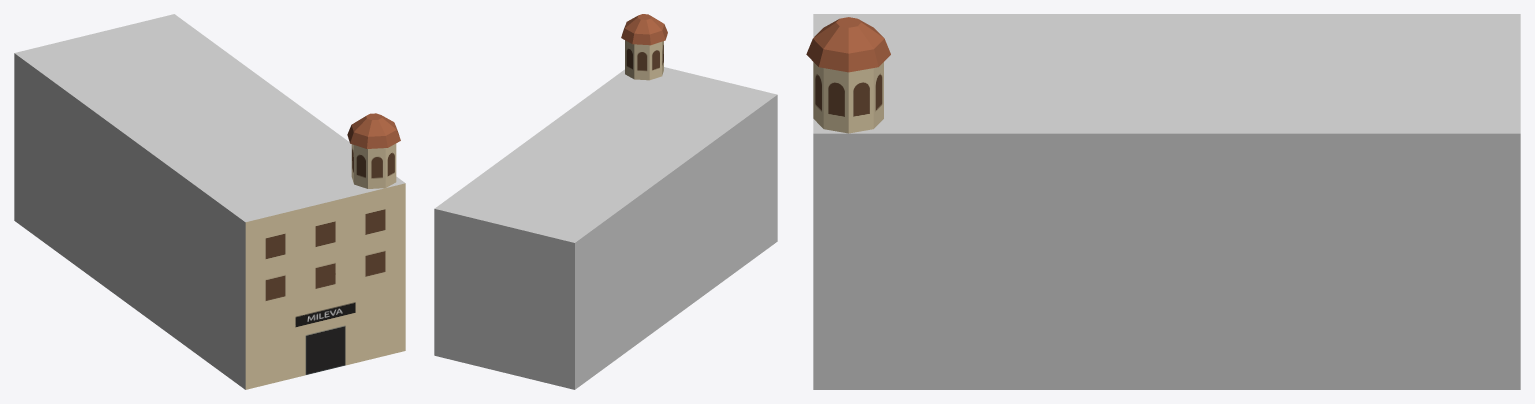
Rendered from alleys.glb.
The picture shows the model from 3 angles, left to right: view 1: azimuth 30°, elevation 25°; view 2: azimuth 150°, elevation 25°; view 3: azimuth 270°, elevation 25°; orthographic projection. The views are drawn at different scales.
Visible parts, largest first — view 1: Building, Circle; view 2: Building, Circle; view 3: Building, Circle.
Part boxes in pixels (x1=…): Building: x1=14, y1=14, x2=405, y2=389; Circle: x1=347, y1=113, x2=400, y2=188; Building: x1=434, y1=67, x2=777, y2=389; Circle: x1=621, y1=14, x2=667, y2=80; Building: x1=813, y1=14, x2=1520, y2=389; Circle: x1=806, y1=17, x2=890, y2=133.
Size of what is drawn, in the model's own units: 8.2 by 11 by 20.2.
4 materials, 2 textured.
